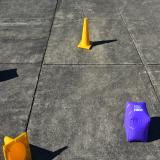cone: (3, 132, 32, 160), (78, 18, 94, 50)
cube: (124, 101, 151, 142)
